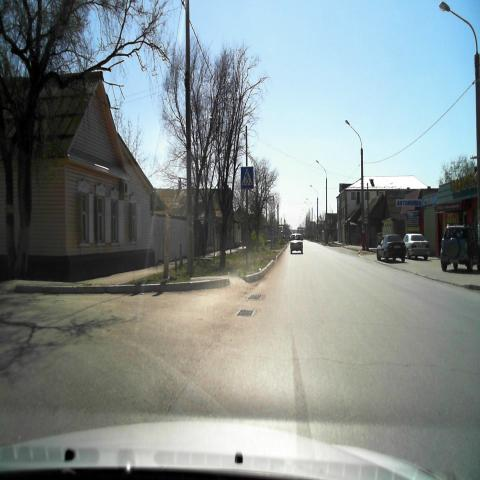5_19_1: (242, 166, 255, 190)
